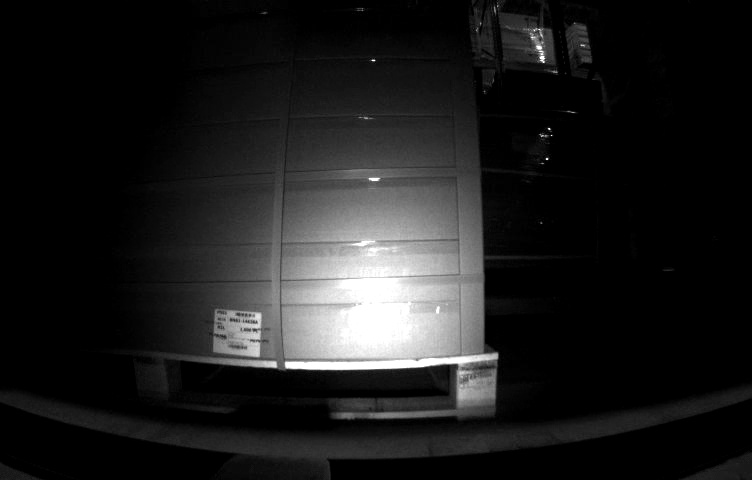True Barcode: (215, 309, 262, 356)
